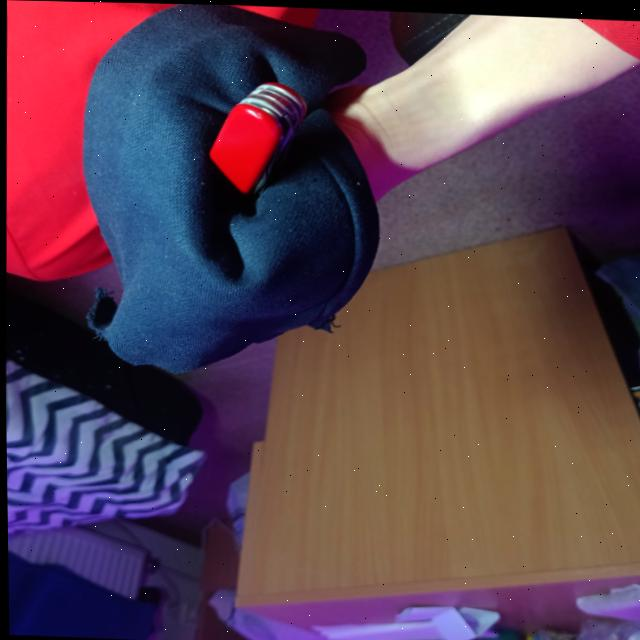knife victorinox: (208, 79, 305, 192)
